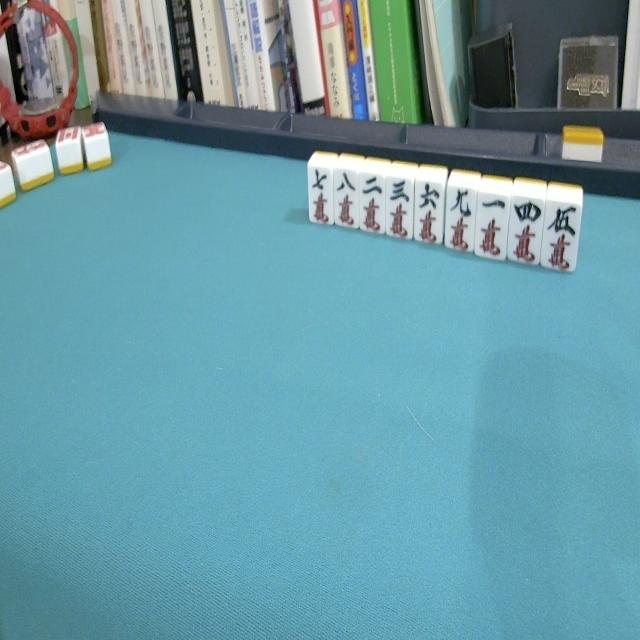1_man: (472, 171, 512, 268)
2_man: (360, 154, 390, 239)
3_man: (382, 160, 418, 250)
4_man: (505, 173, 549, 274)
5_man: (538, 179, 586, 281)
6_man: (412, 161, 449, 255)
7_man: (304, 149, 338, 235)
8_man: (333, 149, 363, 231)
9_man: (442, 165, 481, 264)
